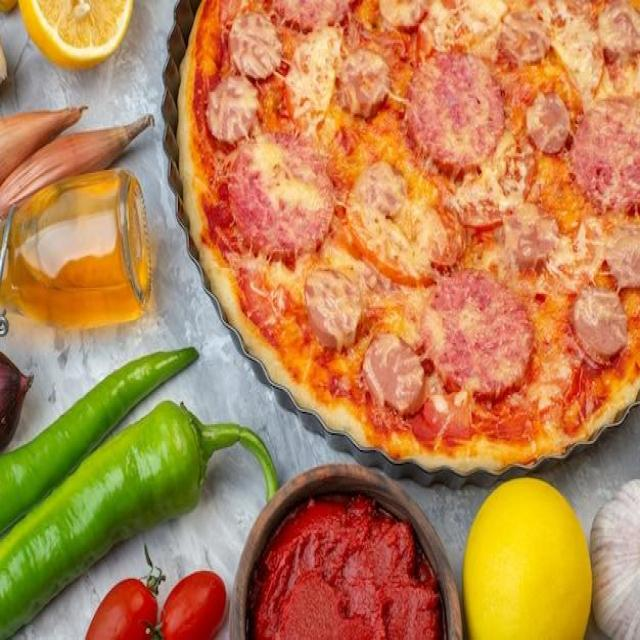pepperoni: (422, 272, 531, 394), (229, 133, 334, 255), (408, 51, 504, 166), (568, 100, 640, 215), (271, 0, 354, 29)
pizza: (175, 0, 640, 474)
